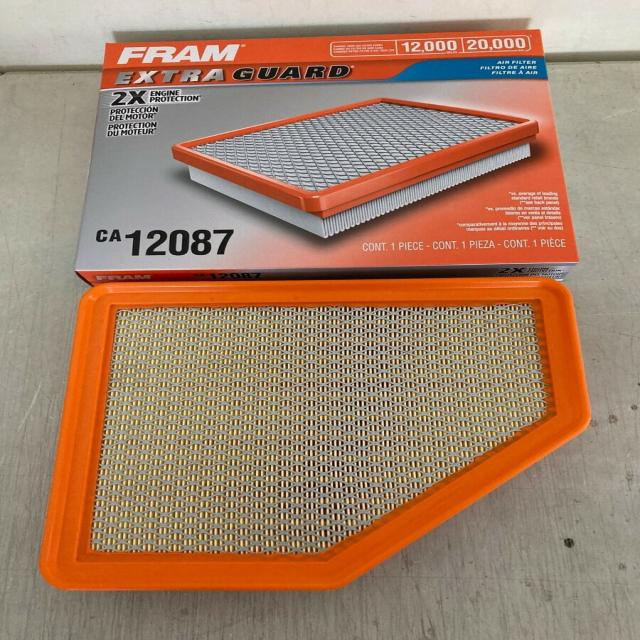air_filter: (40, 274, 600, 594), (160, 94, 543, 217)
